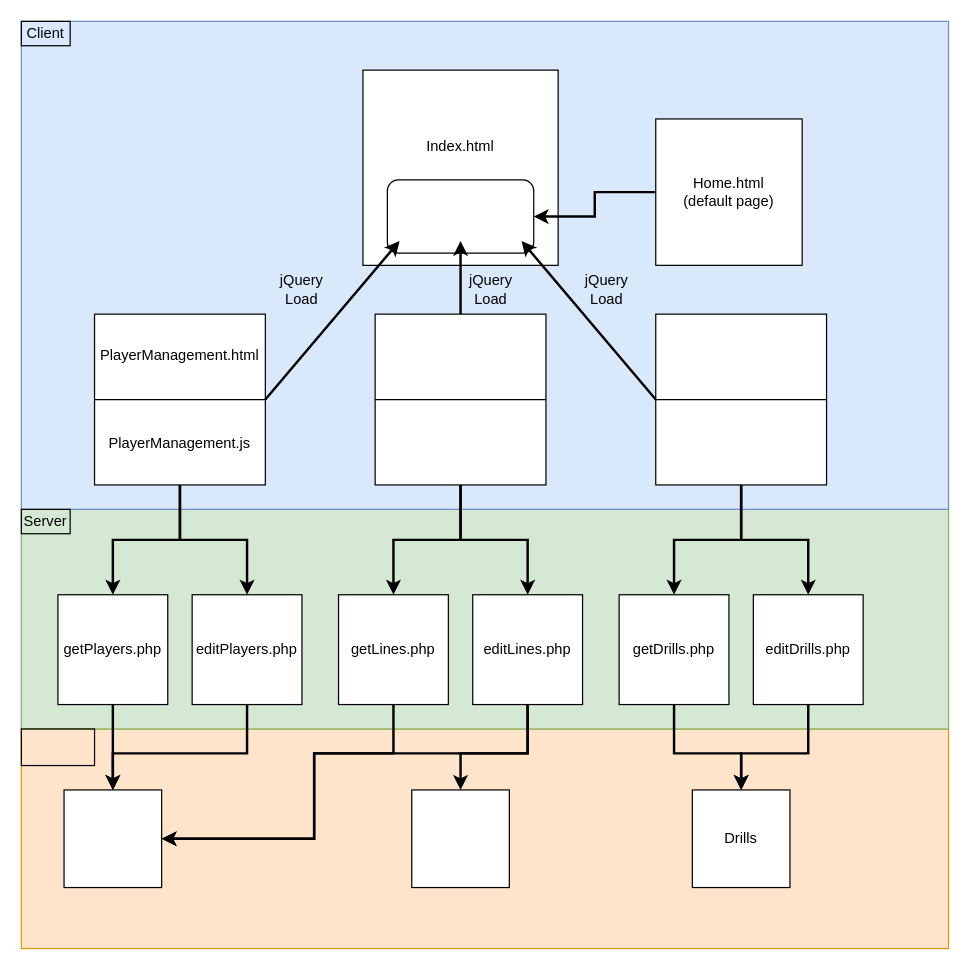
Image size: 970x970. Some labels were removed from this diagram. Here are the shapes that lost their labels. From the top down, the box of each, then its label:
(386, 179, 534, 253): Main Container
(374, 313, 546, 485): TeamPlanning.html TeamPlanning.js
(655, 313, 827, 485): DrillManagement.html DrillManagement.js
(20, 728, 95, 766): Sql Database
(63, 789, 162, 888): Players
(411, 789, 509, 888): Lines
